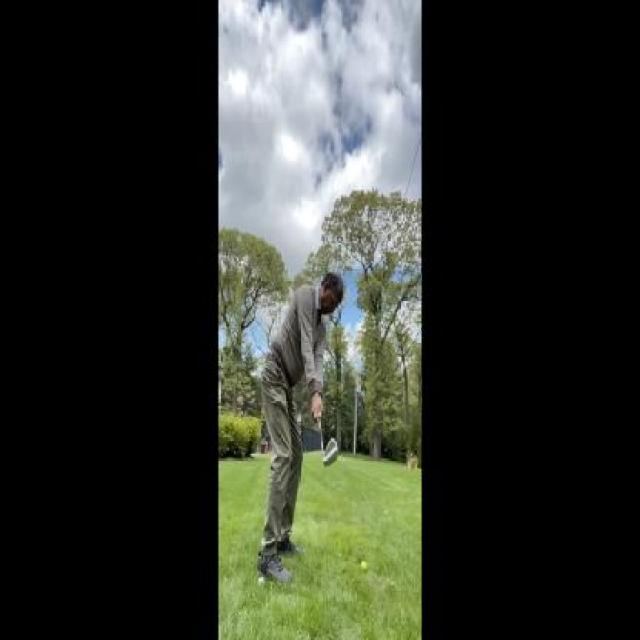club head: (320, 434, 340, 469)
